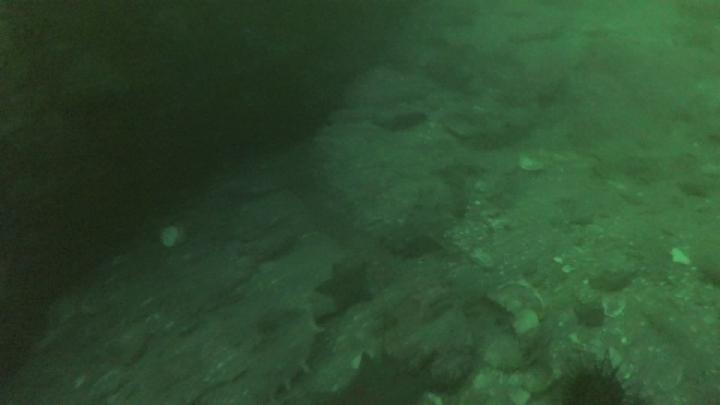echinus: (566, 366, 628, 405)
holothurian: (232, 313, 324, 403)
starfish: (318, 260, 373, 311)
